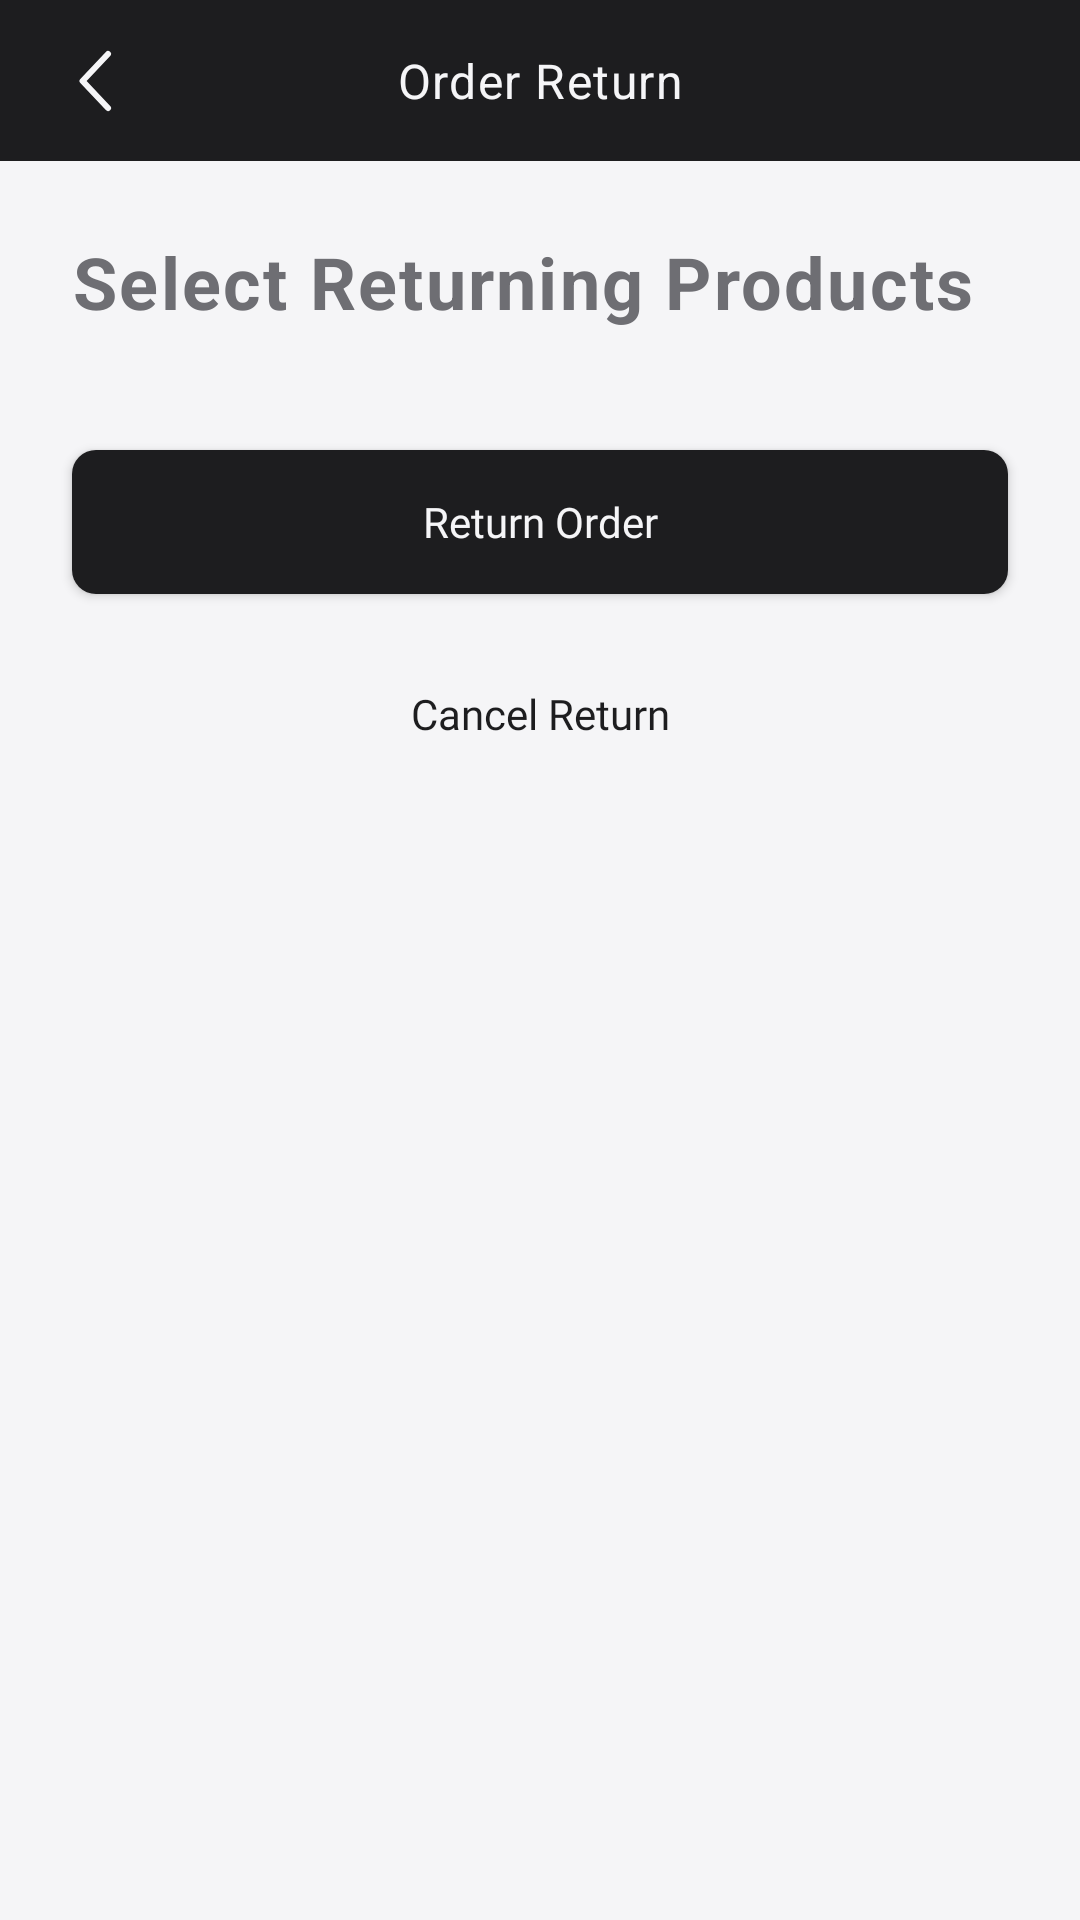

Where icons sit on this 1080*1920 app screen, as (x1, y1, x2, y2):
arrow back: (79, 50, 111, 112)
